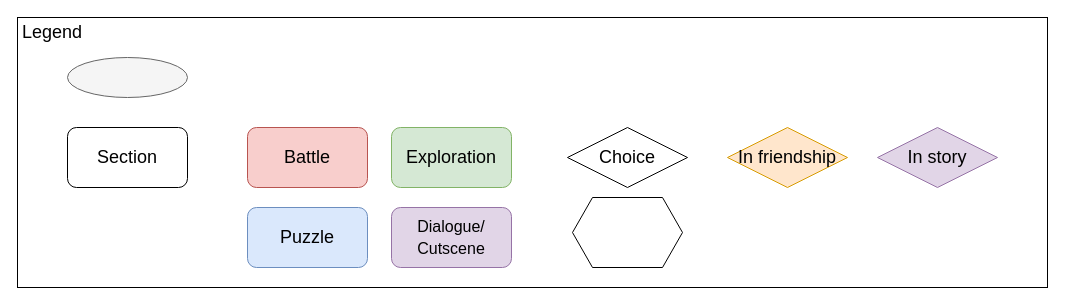
The diagram is 1065 pixels wide and 305 high, and some of its shapes have lost their labels. Each missing label, with the centre of its shape:
"Conditional" belongs at (x=627, y=232).
"Start / End" belongs at (x=127, y=77).
